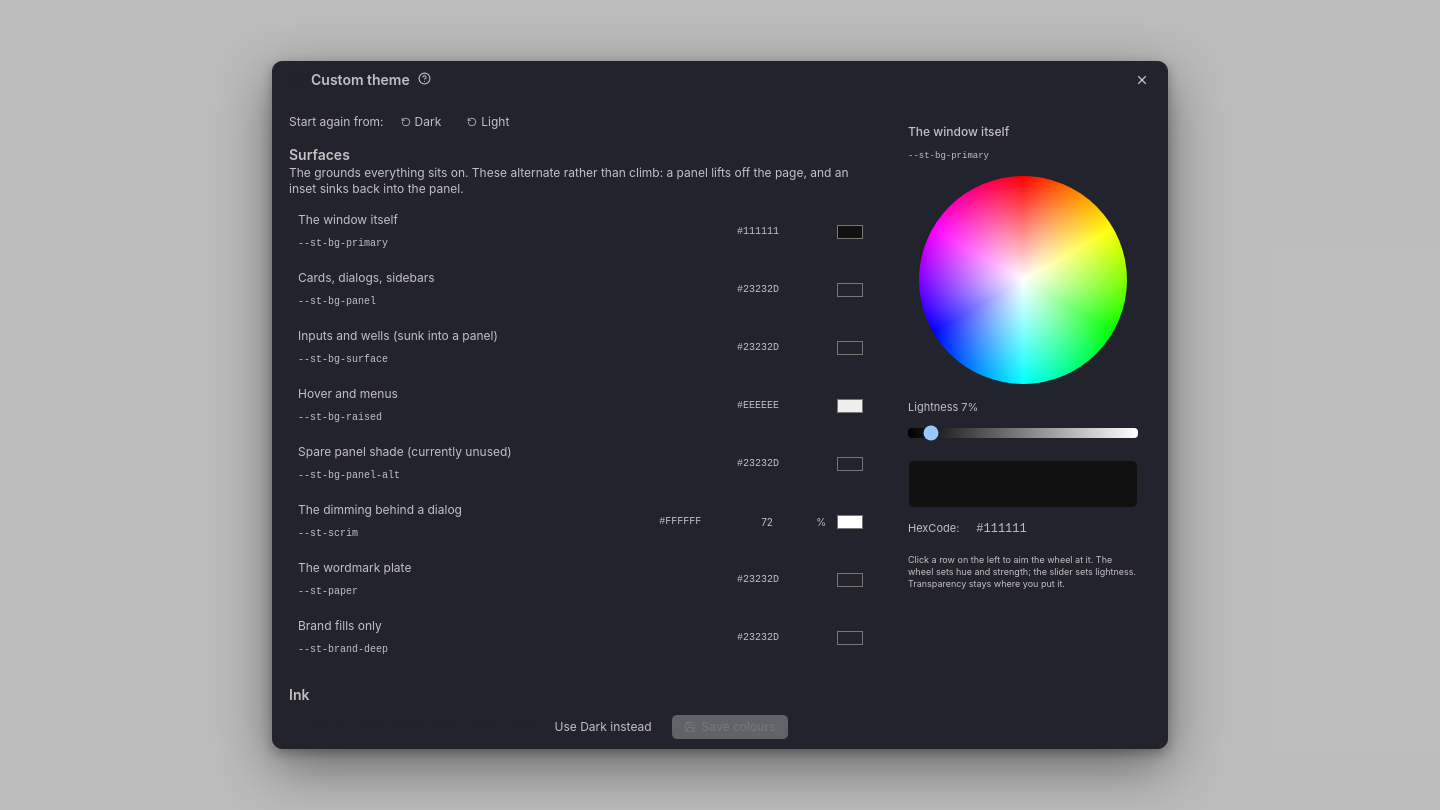
Scenario: the wheel › moves the wheel's own colour with the selection
Expected: the text with test id "wheel-hex" reads "#111111", 976,522 -> 1027,536
Click the text "Hover and menus".
click(348, 393)  # box 298,386 -> 398,401
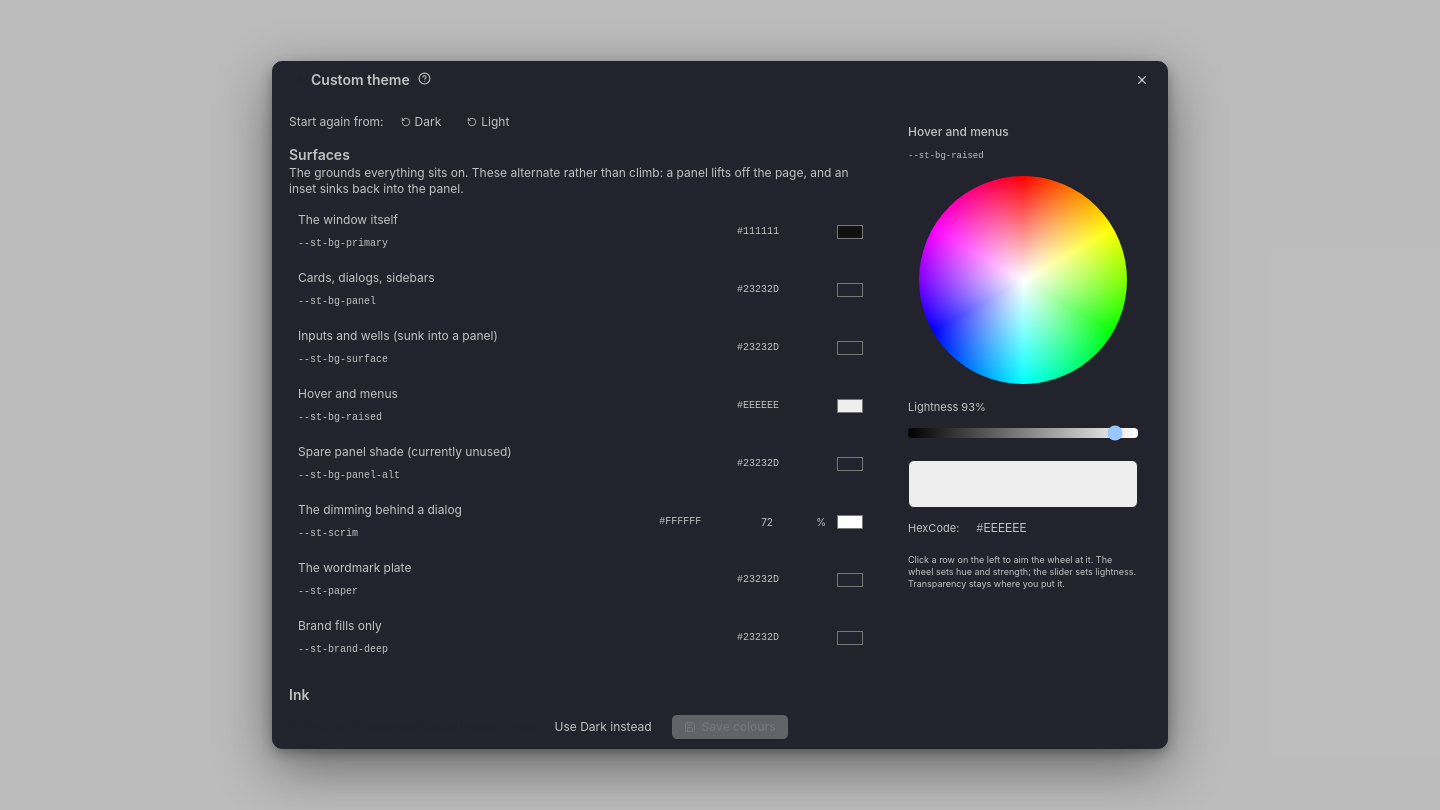
Result: the text with test id "wheel-hex" reads "#EEEEEE" at 976,522 -> 1027,536
